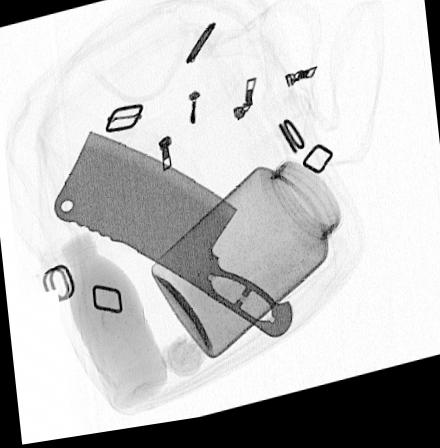Knife: (54, 131, 294, 346)
